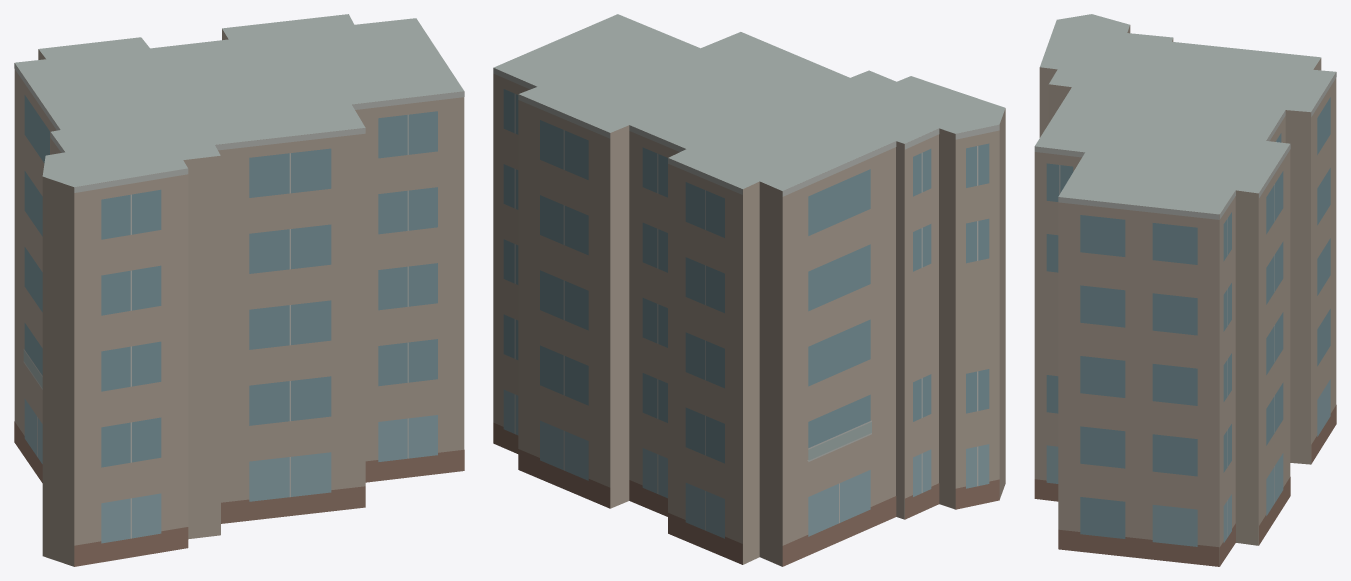
Rendered from survey-upis-32498030.glb.
The picture shows the model from 3 angles, left to right: view 1: azimuth 30°, elevation 25°; view 2: azimuth 150°, elevation 25°; view 3: azimuth 270°, elevation 25°; orthographic projection. The views are drawn at different scales.
Visible parts, largest first — view 1: survey-upis-32498030.tmp; view 2: survey-upis-32498030.tmp; view 3: survey-upis-32498030.tmp.
Boxes of the visible parts, x1,y1,x2,y2 form: survey-upis-32498030.tmp: (14, 14, 464, 566); survey-upis-32498030.tmp: (493, 14, 1005, 566); survey-upis-32498030.tmp: (1034, 14, 1336, 566).
Size of the model in its own units: 19.18 by 15.71 by 12.21.
